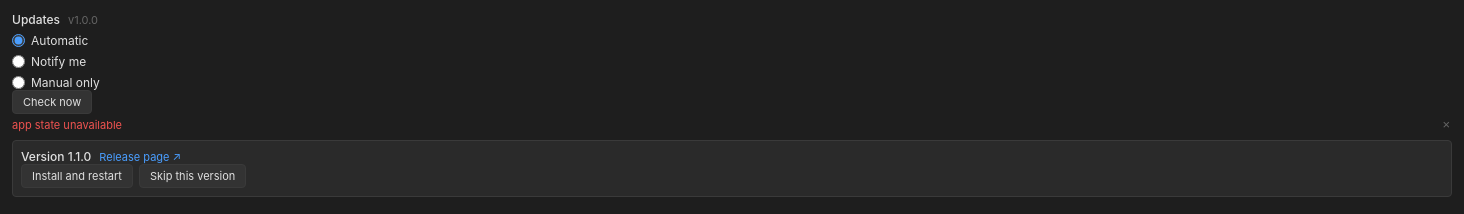
Test: UpdatePanel › frames a Skip failure as a past attempt, not a present fact
Click the button "Skip this version" at (193, 176), box [139, 164, 246, 188]
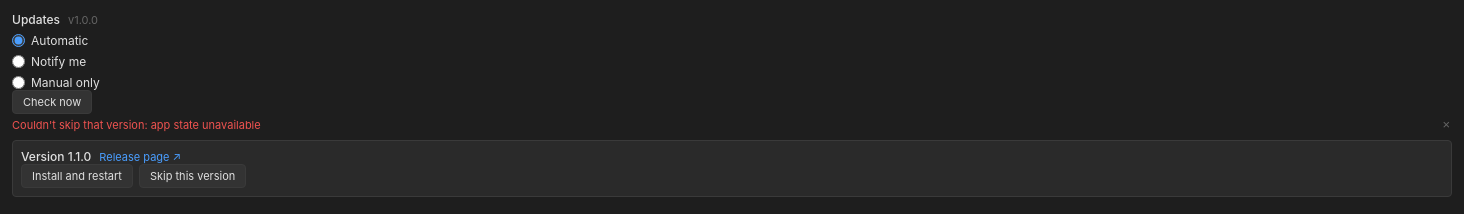
Now the text "Couldn't skip that version: app state unavailable" is shown, box [12, 118, 261, 132]
